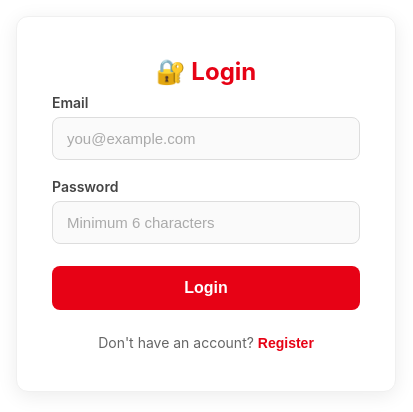
Test: AuthForm › Login flow › should show loading state while logging in
Step 1. Type "test@example.com" into the field labelled "Email" → [206, 138], box left=52, top=117, right=360, bottom=160
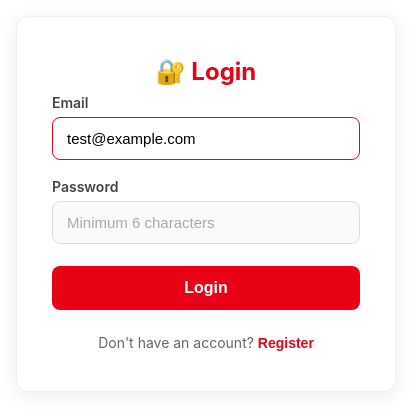
Step 2. Type "password123" into the password field labelled "Password" → [206, 222], box left=52, top=201, right=360, bottom=244
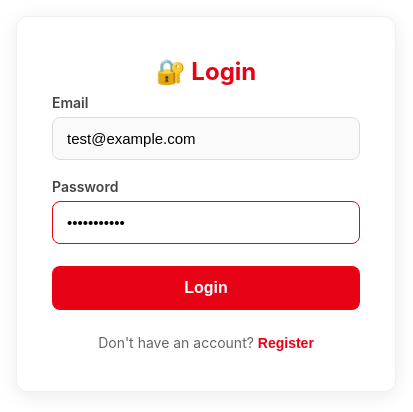
Step 3. Click the button "Login" → [206, 288], box left=52, top=266, right=360, bottom=310
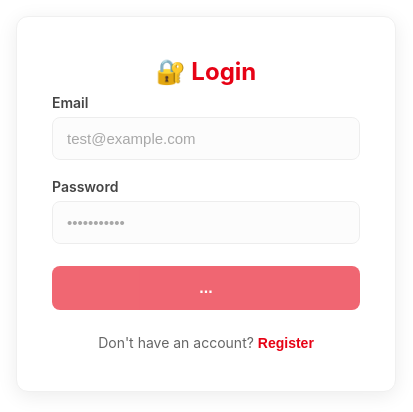
Now the button "..." is disabled, box left=52, top=266, right=360, bottom=310
